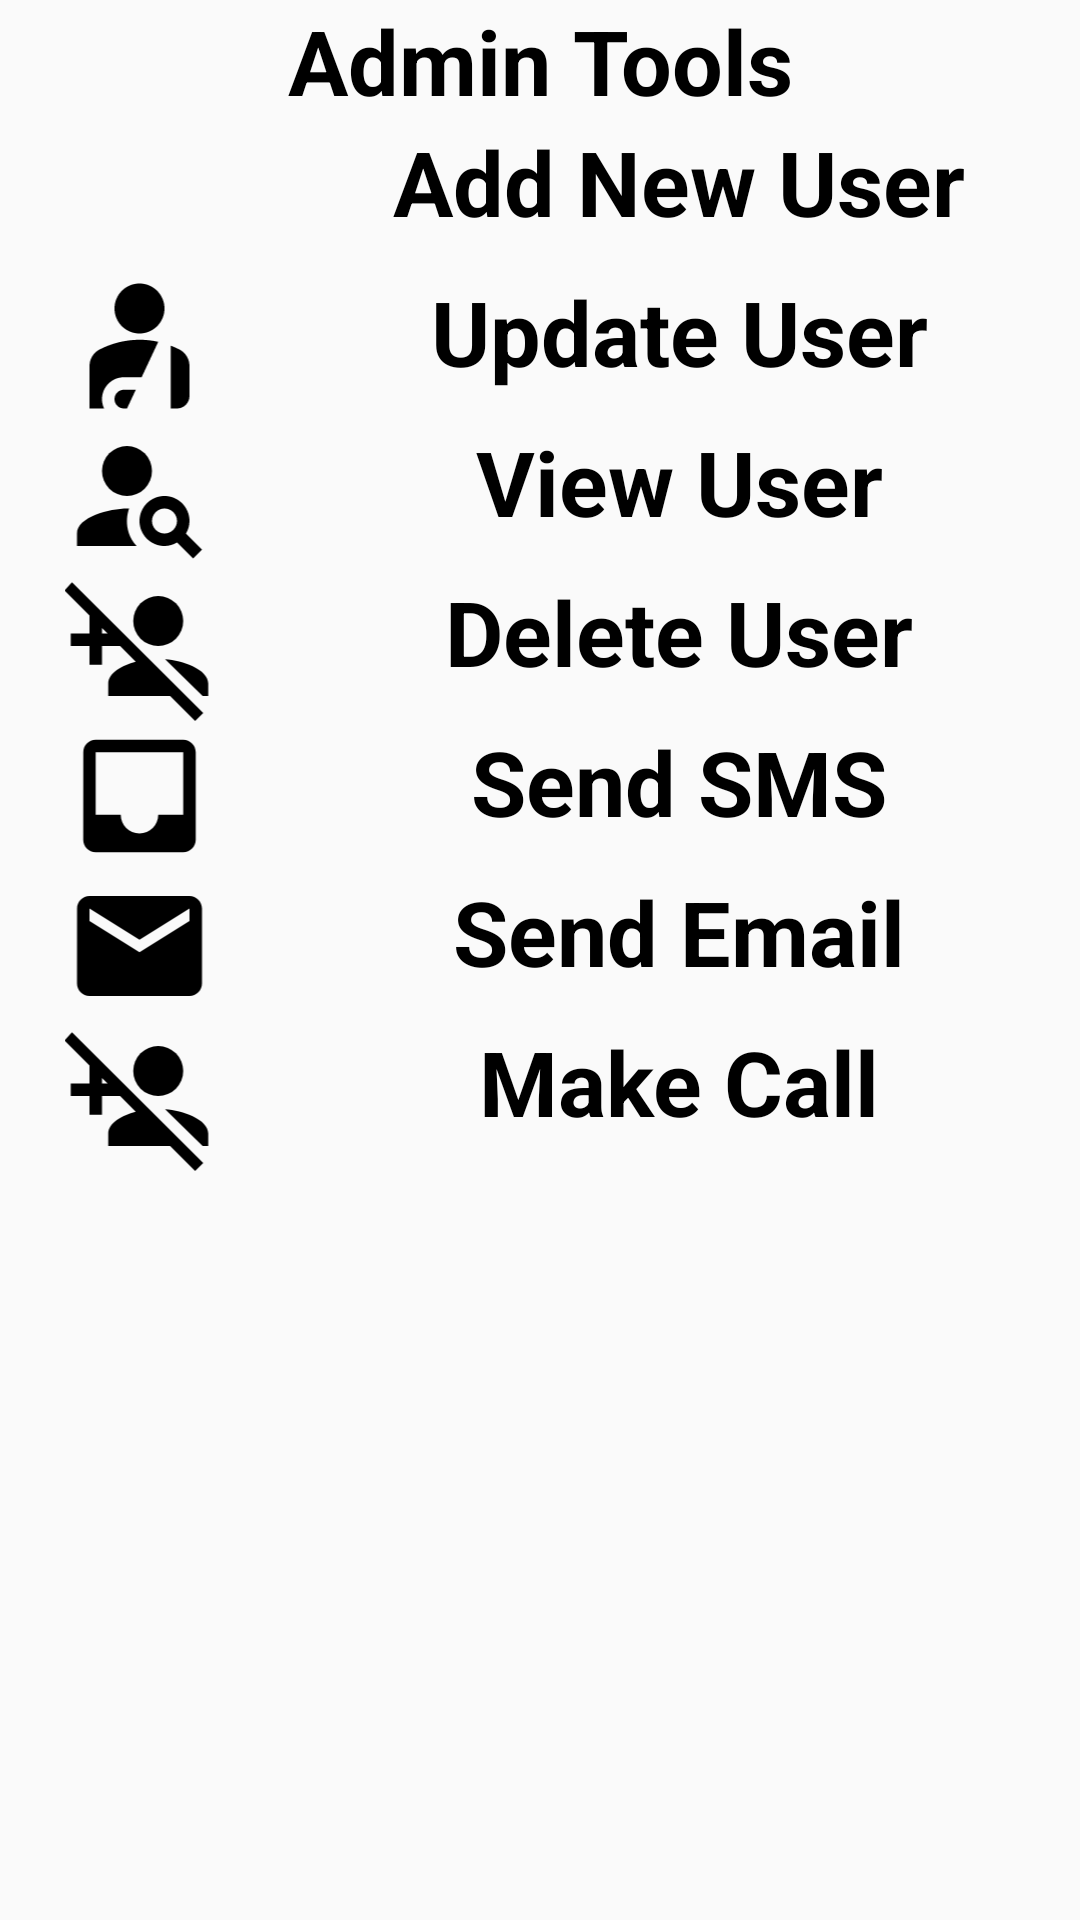

Screen size 1080px x 1920px. Icon name, then its center in pixels as point (x, y):
inbox: point (139, 796)
person search: point (139, 502)
personal injury: point (139, 346)
